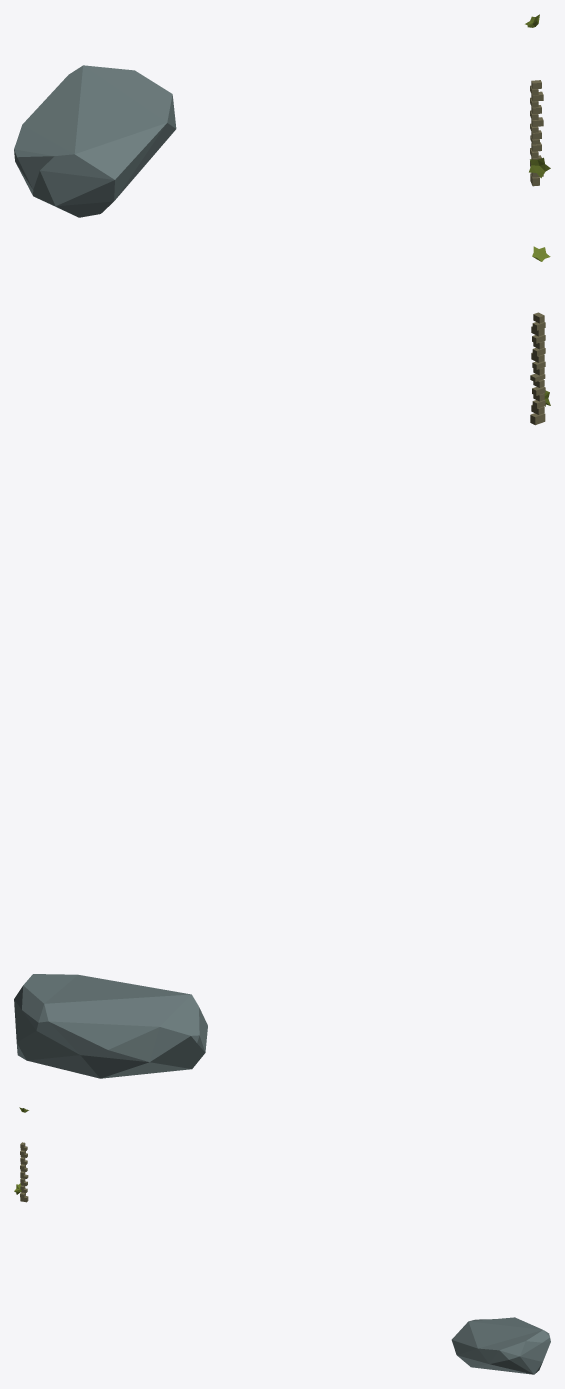
3 renders of one model, top to bottom at view 1: azimuth 30°, elevation 25°; view 2: azimuth 150°, elevation 25°; view 3: azimuth 270°, elevation 25°, orthographic. The views are drawn at different scales.
Visible parts, largest first — view 1: Box282_rock_0, Box16201_rock2_0, Box16039_green2_0; view 2: Box282_rock_0, Box16201_rock2_0; view 3: Box282_rock_0, Box16201_rock2_0.
Part boxes in pixels (box(x1,y1,x2,y2)): Box282_rock_0: box(14, 65, 176, 217); Box16201_rock2_0: box(530, 80, 543, 186); Box16039_green2_0: box(529, 157, 550, 178); Box282_rock_0: box(14, 974, 207, 1078); Box16201_rock2_0: box(530, 312, 545, 425); Box282_rock_0: box(451, 1317, 550, 1374); Box16201_rock2_0: box(20, 1142, 28, 1202).
Size of the model in its own units: 1114 by 3195 by 5758.
